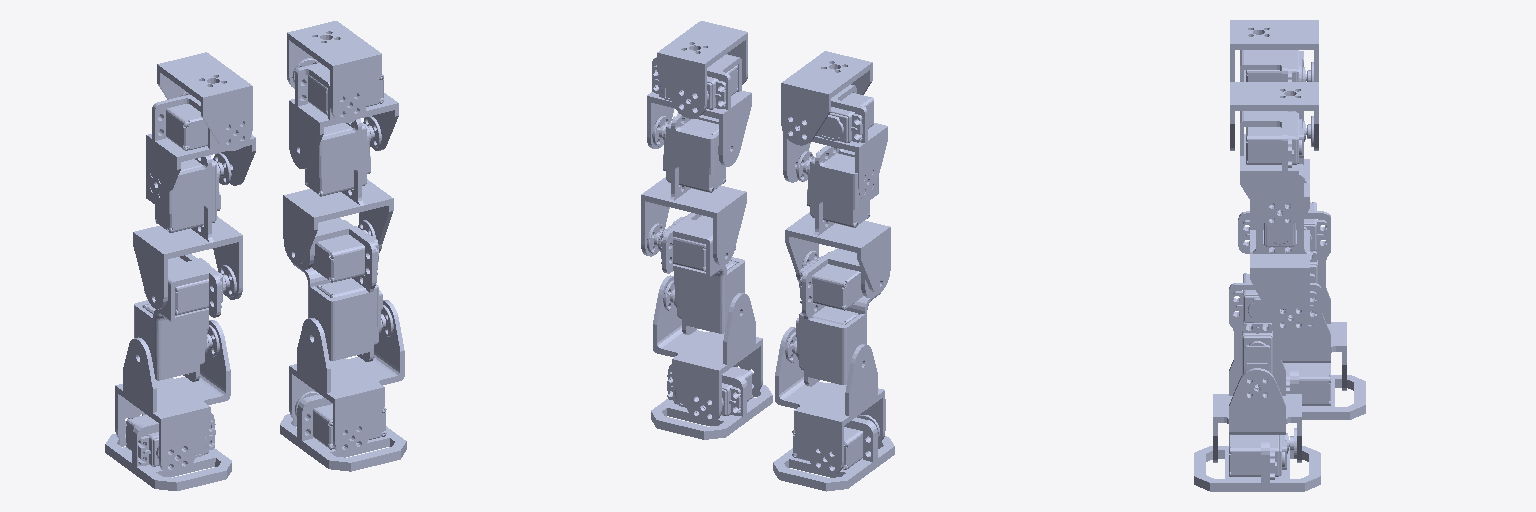
robot.urdf — Euflex_2:
<?xml version="1.0" encoding="utf-8"?>
<!-- This URDF was automatically created by SolidWorks to URDF Exporter! Originally created by Stephen Brawner (brawner@gmail.com) 
     Commit Version: 1.6.0-4-g7f85cfe  Build Version: 1.6.7995.38578
     For more information, please see http://wiki.ros.org/sw_urdf_exporter -->
<robot
  name="Euflex_2">
  <link
    name="base_link">
    <inertial>
      <origin
        xyz="0.00198149878278396 -0.0249625190344843 0.00157621882221727"
        rpy="0 0 0" />
      <mass
        value="0.368194750655115" />
      <inertia
        ixx="0.000454072095110405"
        ixy="8.28725312952733E-08"
        ixz="-3.07500649874695E-08"
        iyy="0.000843176006602399"
        iyz="2.2001232940001E-05"
        izz="0.000459008901134337" />
    </inertial>
    <visual>
      <origin
        xyz="0 0 0"
        rpy="0 0 0" />
      <geometry>
        <mesh
          filename="package://Euflex_2/meshes/base_link.STL" />
      </geometry>
      <material
        name="">
        <color
          rgba="0.792156862745098 0.819607843137255 0.933333333333333 1" />
      </material>
    </visual>
    <collision>
      <origin
        xyz="0 0 0"
        rpy="0 0 0" />
      <geometry>
        <mesh
          filename="package://Euflex_2/meshes/base_link.STL" />
      </geometry>
    </collision>
  </link>
  <link
    name="RLeg">
    <inertial>
      <origin
        xyz="-0.00969631499435987 0.000873144295986734 0.00957982643630677"
        rpy="0 0 0" />
      <mass
        value="0.0132414789071289" />
      <inertia
        ixx="2.85210436910976E-06"
        ixy="3.51112154341069E-09"
        ixz="3.04802906211644E-08"
        iyy="7.63570502638493E-06"
        iyz="-2.26582226777928E-07"
        izz="7.37924068866271E-06" />
    </inertial>
    <visual>
      <origin
        xyz="0 0 0"
        rpy="0 0 0" />
      <geometry>
        <mesh
          filename="package://Euflex_2/meshes/RLeg.STL" />
      </geometry>
      <material
        name="">
        <color
          rgba="0.792156862745098 0.819607843137255 0.933333333333333 1" />
      </material>
    </visual>
    <collision>
      <origin
        xyz="0 0 0"
        rpy="0 0 0" />
      <geometry>
        <mesh
          filename="package://Euflex_2/meshes/RLeg.STL" />
      </geometry>
    </collision>
  </link>
  <joint
    name="RHip_yaw"
    type="revolute">
    <origin
      xyz="-0.04575 -0.0153 -0.077419"
      rpy="3.1416 0 1.5708" />
    <parent
      link="base_link" />
    <child
      link="RLeg" />
    <axis
      xyz="0 0 1" />
    <limit
      lower="-1.57"
      upper="1.57"
      effort="1.3"
      velocity="5" />
  </joint>
  <link
    name="RHip">
    <inertial>
      <origin
        xyz="-0.0090772577330072 -0.0113708477946232 -0.00483112053858099"
        rpy="0 0 0" />
      <mass
        value="0.0494734546455844" />
      <inertia
        ixx="1.10704055059401E-05"
        ixy="1.92903922818722E-07"
        ixz="-5.14547748036048E-07"
        iyy="1.72532726474915E-05"
        iyz="8.02771322110712E-07"
        izz="1.69878833831647E-05" />
    </inertial>
    <visual>
      <origin
        xyz="0 0 0"
        rpy="0 0 0" />
      <geometry>
        <mesh
          filename="package://Euflex_2/meshes/RHip.STL" />
      </geometry>
      <material
        name="">
        <color
          rgba="0.792156862745098 0.819607843137255 0.933333333333333 1" />
      </material>
    </visual>
    <collision>
      <origin
        xyz="0 0 0"
        rpy="0 0 0" />
      <geometry>
        <mesh
          filename="package://Euflex_2/meshes/RHip.STL" />
      </geometry>
    </collision>
  </link>
  <joint
    name="RHip_roll"
    type="revolute">
    <origin
      xyz="0 0.0055 0.029"
      rpy="3.1416 -0.0010731 1.5708" />
    <parent
      link="RLeg" />
    <child
      link="RHip" />
    <axis
      xyz="0 1 0" />
    <limit
      lower="-1.57"
      upper="1.57"
      effort="1.3"
      velocity="5" />
  </joint>
  <link
    name="RFemur">
    <inertial>
      <origin
        xyz="-0.0191759064178121 -0.000404055130854789 0.00371117071124068"
        rpy="0 0 0" />
      <mass
        value="0.0542758109277786" />
      <inertia
        ixx="1.51284804247851E-05"
        ixy="-7.38252999508394E-07"
        ixz="-2.47453480120221E-06"
        iyy="3.04205364709092E-05"
        iyz="-7.7412727033067E-08"
        izz="2.30466755339454E-05" />
    </inertial>
    <visual>
      <origin
        xyz="0 0 0"
        rpy="0 0 0" />
      <geometry>
        <mesh
          filename="package://Euflex_2/meshes/RFemur.STL" />
      </geometry>
      <material
        name="">
        <color
          rgba="0.792156862745098 0.819607843137255 0.933333333333333 1" />
      </material>
    </visual>
    <collision>
      <origin
        xyz="0 0 0"
        rpy="0 0 0" />
      <geometry>
        <mesh
          filename="package://Euflex_2/meshes/RFemur.STL" />
      </geometry>
    </collision>
  </link>
  <joint
    name="RHip_pitch"
    type="revolute">
    <origin
      xyz="-0.01271 -0.00665 -0.038994"
      rpy="0 -1.5708 0" />
    <parent
      link="RHip" />
    <child
      link="RFemur" />
    <axis
      xyz="0 0 -1" />
    <limit
      lower="-1.57"
      upper="1.57"
      effort="1.3"
      velocity="5" />
  </joint>
  <link
    name="RTibia">
    <inertial>
      <origin
        xyz="0.0212515207013594 0.0151020897105685 -0.00467088839588699"
        rpy="0 0 0" />
      <mass
        value="0.0818969811646798" />
      <inertia
        ixx="1.84012580043274E-05"
        ixy="-3.6591697647335E-06"
        ixz="2.29221351668279E-07"
        iyy="2.46378887742876E-05"
        iyz="1.73074211202668E-09"
        izz="2.61318810922123E-05" />
    </inertial>
    <visual>
      <origin
        xyz="0 0 0"
        rpy="0 0 0" />
      <geometry>
        <mesh
          filename="package://Euflex_2/meshes/RTibia.STL" />
      </geometry>
      <material
        name="">
        <color
          rgba="0.792156862745098 0.819607843137255 0.933333333333333 1" />
      </material>
    </visual>
    <collision>
      <origin
        xyz="0 0 0"
        rpy="0 0 0" />
      <geometry>
        <mesh
          filename="package://Euflex_2/meshes/RTibia.STL" />
      </geometry>
    </collision>
  </link>
  <joint
    name="RKnee_pitch"
    type="revolute">
    <origin
      xyz="-0.072905 -0.0067806 4.0675E-05"
      rpy="3.1416 0 -3.1416" />
    <parent
      link="RFemur" />
    <child
      link="RTibia" />
    <axis
      xyz="0 0 1" />
    <limit
      lower="-1.57"
      upper="1.57"
      effort="1.3"
      velocity="5" />
  </joint>
  <link
    name="RAnkle">
    <inertial>
      <origin
        xyz="3.76730334428199E-10 0.00639656779291405 0.0298313415059275"
        rpy="0 0 0" />
      <mass
        value="0.0236803263628535" />
      <inertia
        ixx="1.41654337560222E-05"
        ixy="-1.93003866834713E-14"
        ixz="-1.22351283920455E-14"
        iyy="1.29843054508454E-05"
        iyz="-1.37695078728216E-06"
        izz="1.53303757935294E-05" />
    </inertial>
    <visual>
      <origin
        xyz="0 0 0"
        rpy="0 0 0" />
      <geometry>
        <mesh
          filename="package://Euflex_2/meshes/RAnkle.STL" />
      </geometry>
      <material
        name="">
        <color
          rgba="0.792156862745098 0.819607843137255 0.933333333333333 1" />
      </material>
    </visual>
    <collision>
      <origin
        xyz="0 0 0"
        rpy="0 0 0" />
      <geometry>
        <mesh
          filename="package://Euflex_2/meshes/RAnkle.STL" />
      </geometry>
    </collision>
  </link>
  <joint
    name="RAnkle_pitch"
    type="revolute">
    <origin
      xyz="0.04856 0.02095 0"
      rpy="-1.5708 0 -1.5708" />
    <parent
      link="RTibia" />
    <child
      link="RAnkle" />
    <axis
      xyz="0 -1 0" />
    <limit
      lower="-1.57"
      upper="1.57"
      effort="1.3"
      velocity="5" />
  </joint>
  <link
    name="RFoot">
    <inertial>
      <origin
        xyz="0.0044437357632709 0.00974433299026259 -0.00549632667027595"
        rpy="0 0 0" />
      <mass
        value="0.0519939935226972" />
      <inertia
        ixx="2.19224463774414E-05"
        ixy="1.06269520006351E-08"
        ixz="2.70863770644912E-07"
        iyy="1.37707826202166E-05"
        iyz="7.12306750611312E-08"
        izz="1.26305289174239E-05" />
    </inertial>
    <visual>
      <origin
        xyz="0 0 0"
        rpy="0 0 0" />
      <geometry>
        <mesh
          filename="package://Euflex_2/meshes/RFoot.STL" />
      </geometry>
      <material
        name="">
        <color
          rgba="0.792156862745098 0.819607843137255 0.933333333333333 1" />
      </material>
    </visual>
    <collision>
      <origin
        xyz="0 0 0"
        rpy="0 0 0" />
      <geometry>
        <mesh
          filename="package://Euflex_2/meshes/RFoot.STL" />
      </geometry>
    </collision>
  </link>
  <joint
    name="RAnkle_roll"
    type="revolute">
    <origin
      xyz="0.0058808 0.017589 0.058549"
      rpy="0.64535 -1.5708 2.4962" />
    <parent
      link="RAnkle" />
    <child
      link="RFoot" />
    <axis
      xyz="0 0 1" />
    <limit
      lower="-1.57"
      upper="1.57"
      effort="1.3"
      velocity="5" />
  </joint>
  <link
    name="LLeg">
    <inertial>
      <origin
        xyz="0.0103036850056398 0.000873144295986401 0.00957982643630678"
        rpy="0 0 0" />
      <mass
        value="0.0132414789071289" />
      <inertia
        ixx="2.85210436910976E-06"
        ixy="3.51112154342407E-09"
        ixz="3.04802906211677E-08"
        iyy="7.63570502638494E-06"
        iyz="-2.2658222677793E-07"
        izz="7.37924068866273E-06" />
    </inertial>
    <visual>
      <origin
        xyz="0 0 0"
        rpy="0 0 0" />
      <geometry>
        <mesh
          filename="package://Euflex_2/meshes/LLeg.STL" />
      </geometry>
      <material
        name="">
        <color
          rgba="0.792156862745098 0.819607843137255 0.933333333333333 1" />
      </material>
    </visual>
    <collision>
      <origin
        xyz="0 0 0"
        rpy="0 0 0" />
      <geometry>
        <mesh
          filename="package://Euflex_2/meshes/LLeg.STL" />
      </geometry>
    </collision>
  </link>
  <joint
    name="LHip_yaw"
    type="revolute">
    <origin
      xyz="0.04575 -0.0153 -0.077419"
      rpy="3.1416 0 -1.5708" />
    <parent
      link="base_link" />
    <child
      link="LLeg" />
    <axis
      xyz="0 0 1" />
    <limit
      lower="-1.57"
      upper="1.57"
      effort="1.3"
      velocity="5" />
  </joint>
  <link
    name="LHip">
    <inertial>
      <origin
        xyz="-0.00483111629746052 0.00907725773300719 -0.0113708477946229"
        rpy="0 0 0" />
      <mass
        value="0.0494734546455844" />
      <inertia
        ixx="1.69878833831647E-05"
        ixy="5.14549048944303E-07"
        ixz="8.02768812974481E-07"
        iyy="1.10704055059401E-05"
        iyz="-1.92903922818714E-07"
        izz="1.72532726474915E-05" />
    </inertial>
    <visual>
      <origin
        xyz="0 0 0"
        rpy="0 0 0" />
      <geometry>
        <mesh
          filename="package://Euflex_2/meshes/LHip.STL" />
      </geometry>
      <material
        name="">
        <color
          rgba="0.792156862745098 0.819607843137255 0.933333333333333 1" />
      </material>
    </visual>
    <collision>
      <origin
        xyz="0 0 0"
        rpy="0 0 0" />
      <geometry>
        <mesh
          filename="package://Euflex_2/meshes/LHip.STL" />
      </geometry>
    </collision>
  </link>
  <joint
    name="LHip_roll"
    type="revolute">
    <origin
      xyz="0 0.0055 0.029"
      rpy="-1.5708 1.5697 1.5708" />
    <parent
      link="LLeg" />
    <child
      link="LHip" />
    <axis
      xyz="0 0 1" />
    <limit
      lower="-1.57"
      upper="1.57"
      effort="1.3"
      velocity="5" />
  </joint>
  <link
    name="LFemur">
    <inertial>
      <origin
        xyz="-0.000373208724159125 0.0191704024484222 -0.00688173085116523"
        rpy="0 0 0" />
      <mass
        value="0.0542758109277786" />
      <inertia
        ixx="3.04205370837339E-05"
        ixy="7.382479539795E-07"
        ixz="7.74091932311893E-08"
        iyy="1.51284798118915E-05"
        iyz="-2.47453483300712E-06"
        izz="2.30466755340144E-05" />
    </inertial>
    <visual>
      <origin
        xyz="0 0 0"
        rpy="0 0 0" />
      <geometry>
        <mesh
          filename="package://Euflex_2/meshes/LFemur.STL" />
      </geometry>
      <material
        name="">
        <color
          rgba="0.792156862745098 0.819607843137255 0.933333333333333 1" />
      </material>
    </visual>
    <collision>
      <origin
        xyz="0 0 0"
        rpy="0 0 0" />
      <geometry>
        <mesh
          filename="package://Euflex_2/meshes/LFemur.STL" />
      </geometry>
    </collision>
  </link>
  <joint
    name="LHip_pitch"
    type="revolute">
    <origin
      xyz="-0.039 0.015881 -0.0066192"
      rpy="1.5719 1.5708 -3.1405" />
    <parent
      link="LHip" />
    <child
      link="LFemur" />
    <axis
      xyz="0 0 1" />
    <limit
      lower="-1.57"
      upper="1.57"
      effort="1.3"
      velocity="5" />
  </joint>
  <link
    name="LTibia">
    <inertial>
      <origin
        xyz="-0.0212515181372863 0.0151020872625875 -0.00788212303842882"
        rpy="0 0 0" />
      <mass
        value="0.0818969811718048" />
      <inertia
        ixx="1.8401258005481E-05"
        ixy="3.65916976487052E-06"
        ixz="-2.29223860871182E-07"
        iyy="2.46378887761717E-05"
        iyz="1.7332515363113E-09"
        izz="2.61318810916288E-05" />
    </inertial>
    <visual>
      <origin
        xyz="0 0 0"
        rpy="0 0 0" />
      <geometry>
        <mesh
          filename="package://Euflex_2/meshes/LTibia.STL" />
      </geometry>
      <material
        name="">
        <color
          rgba="0.792156862745098 0.819607843137255 0.933333333333333 1" />
      </material>
    </visual>
    <collision>
      <origin
        xyz="0 0 0"
        rpy="0 0 0" />
      <geometry>
        <mesh
          filename="package://Euflex_2/meshes/LTibia.STL" />
      </geometry>
    </collision>
  </link>
  <joint
    name="LKnee_pitch"
    type="revolute">
    <origin
      xyz="-0.0067497 0.0729 0"
      rpy="0 0 -1.5708" />
    <parent
      link="LFemur" />
    <child
      link="LTibia" />
    <axis
      xyz="0 0 1" />
    <limit
      lower="-1.57"
      upper="1.57"
      effort="1.3"
      velocity="5" />
  </joint>
  <link
    name="LAnkle">
    <inertial>
      <origin
        xyz="-1.96953439668412E-10 0.0096078024569069 0.0298313414770444"
        rpy="0 0 0" />
      <mass
        value="0.0236803263628534" />
      <inertia
        ixx="1.41654337560222E-05"
        ixy="-1.37112244561501E-14"
        ixz="-1.69637660757718E-14"
        iyy="1.29843054508453E-05"
        iyz="-1.37695078728216E-06"
        izz="1.53303757935293E-05" />
    </inertial>
    <visual>
      <origin
        xyz="0 0 0"
        rpy="0 0 0" />
      <geometry>
        <mesh
          filename="package://Euflex_2/meshes/LAnkle.STL" />
      </geometry>
      <material
        name="">
        <color
          rgba="0.792156862745098 0.819607843137255 0.933333333333333 1" />
      </material>
    </visual>
    <collision>
      <origin
        xyz="0 0 0"
        rpy="0 0 0" />
      <geometry>
        <mesh
          filename="package://Euflex_2/meshes/LAnkle.STL" />
      </geometry>
    </collision>
  </link>
  <joint
    name="LAnkle_pitch"
    type="revolute">
    <origin
      xyz="-0.04856 0.02095 0"
      rpy="-1.5708 0 1.5708" />
    <parent
      link="LTibia" />
    <child
      link="LAnkle" />
    <axis
      xyz="0 -1 0" />
    <limit
      lower="-1.57"
      upper="1.57"
      effort="1.3"
      velocity="5" />
  </joint>
  <link
    name="LFoot">
    <inertial>
      <origin
        xyz="-0.00444373288319161 0.00970449121404581 0.000384507909192922"
        rpy="0 0 0" />
      <mass
        value="0.0519939935227" />
      <inertia
        ixx="2.19224463774376E-05"
        ixy="1.06270159439335E-08"
        ixz="-2.70866279781629E-07"
        iyy="1.37707826202195E-05"
        iyz="8.03216618353415E-08"
        izz="1.26305289174258E-05" />
    </inertial>
    <visual>
      <origin
        xyz="0 0 0"
        rpy="0 0 0" />
      <geometry>
        <mesh
          filename="package://Euflex_2/meshes/LFoot.STL" />
      </geometry>
      <material
        name="">
        <color
          rgba="0.792156862745098 0.819607843137255 0.933333333333333 1" />
      </material>
    </visual>
    <collision>
      <origin
        xyz="0 0 0"
        rpy="0 0 0" />
      <geometry>
        <mesh
          filename="package://Euflex_2/meshes/LFoot.STL" />
      </geometry>
    </collision>
  </link>
  <joint
    name="LAnkle_roll"
    type="revolute">
    <origin
      xyz="0 0.0208 0.058549"
      rpy="0.6438 1.5708 -2.4978" />
    <parent
      link="LAnkle" />
    <child
      link="LFoot" />
    <axis
      xyz="0 0 1" />
    <limit
      lower="-1.57"
      upper="1.57"
      effort="1.3"
      velocity="5" />
  </joint>
</robot>

--- Facts derived from the render (not from the file) ---
3 views of the same robot in one strip: view 1: azimuth 30°, elevation 25°; view 2: azimuth 150°, elevation 25°; view 3: azimuth 270°, elevation 25° (orthographic).
Model Euflex_2 with 13 links and 12 joints (12 revolute), rooted at base_link, posed every joint at zero.
Links seen in each view (by area): view 1: LTibia, RFemur, LFemur, RAnkle, LAnkle, RTibia, RHip, LLeg, RLeg, LHip, LFoot, RFoot; view 2: LFemur, RFemur, RTibia, LAnkle, RAnkle, LTibia, LLeg, RHip, RLeg, LHip, RFoot, LFoot; view 3: LHip, LFemur, LFoot, LAnkle, LTibia, RFoot, RLeg, LLeg, RAnkle, RHip, RTibia, RFemur.
Link boxes in pixels (box(x1,y1,x2,y2)): LTibia: box(293, 218, 393, 361); RFemur: box(133, 153, 242, 308); LFemur: box(283, 116, 393, 264); RAnkle: box(115, 320, 230, 475); LAnkle: box(289, 300, 404, 455); RTibia: box(134, 254, 236, 381); RHip: box(146, 91, 255, 203); LLeg: box(287, 21, 381, 122); RLeg: box(157, 52, 252, 150); LHip: box(289, 58, 398, 168); LFoot: box(280, 391, 406, 471); RFoot: box(105, 413, 231, 490); LFemur: box(641, 113, 746, 265); RFemur: box(785, 146, 890, 292); RTibia: box(785, 248, 880, 386); LAnkle: box(653, 275, 762, 424); RAnkle: box(775, 327, 885, 476); LTibia: box(647, 213, 744, 334); LLeg: box(657, 21, 747, 118); RHip: box(783, 84, 887, 199); RLeg: box(781, 51, 872, 145); LHip: box(647, 54, 751, 166); RFoot: box(773, 415, 894, 491); LFoot: box(651, 364, 772, 439); LHip: box(1240, 111, 1313, 229); LFemur: box(1250, 164, 1309, 334); LFoot: box(1194, 428, 1320, 491); LAnkle: box(1213, 360, 1301, 462); LTibia: box(1229, 273, 1321, 395); RFoot: box(1283, 363, 1365, 419); RLeg: box(1230, 20, 1318, 81); LLeg: box(1230, 82, 1318, 150); RAnkle: box(1281, 288, 1346, 390); RHip: box(1240, 50, 1313, 112); RTibia: box(1238, 202, 1330, 320); RFemur: box(1250, 111, 1309, 229).
Size in the robot's own frame: 0.167 by 0.1083 by 0.264 metres.
Meshes: 13 distinct files referenced, 12 mesh visuals loaded (12 binary STL); not drawn: 1 (reference not matched to a file when rendering).
